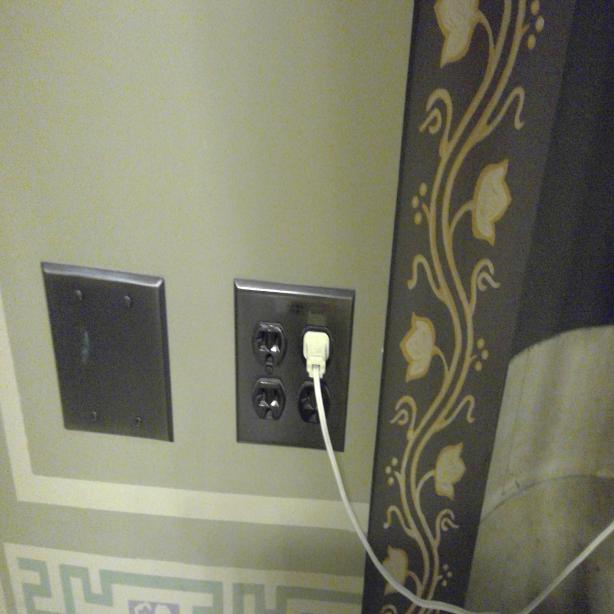typeb: (253, 324, 284, 366), (253, 382, 282, 423), (302, 383, 324, 426)
